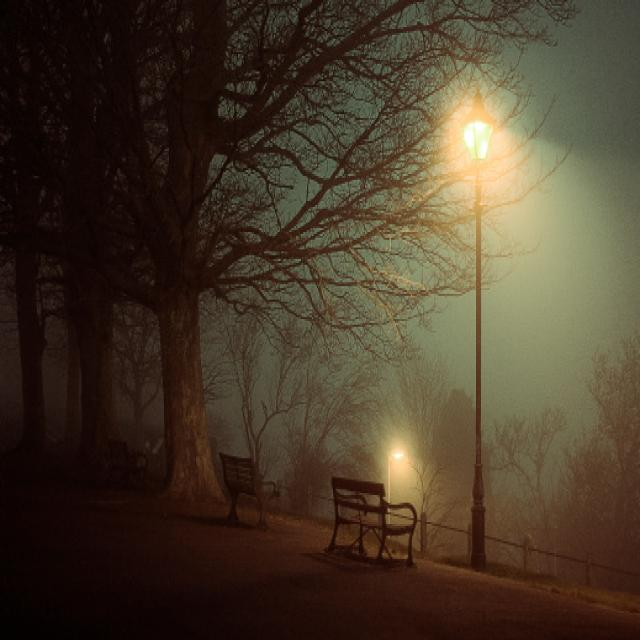chair: (321, 464, 428, 579), (215, 440, 280, 540)
